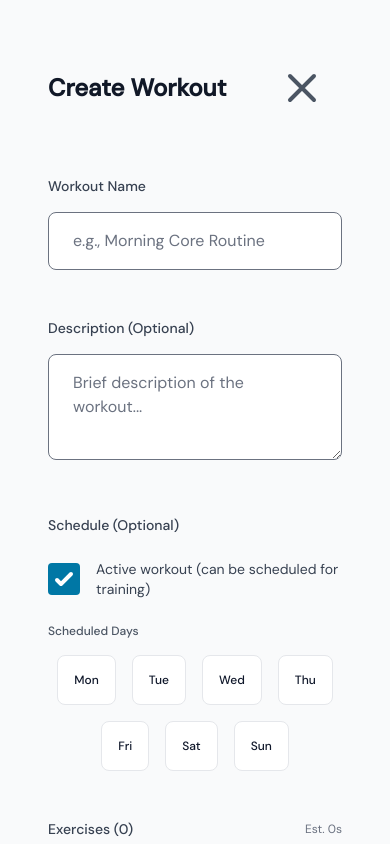
Test case: CreateWorkoutPage - Exercise Type Display Fix › should show only duration field for time-based exercises (Plank)
Fill workout name to enable adding exercises
Type "Test Workout" into the field labelled "Workout Name" at (195, 241), box [48,212,342,270]
(page scrolled)
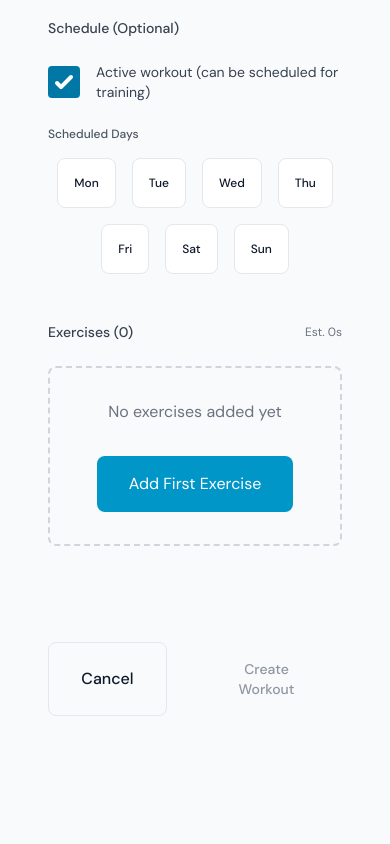
Open exercise picker
Click the button "Add First Exercise" at (195, 484), box [97,456,293,512]
(page scrolled)
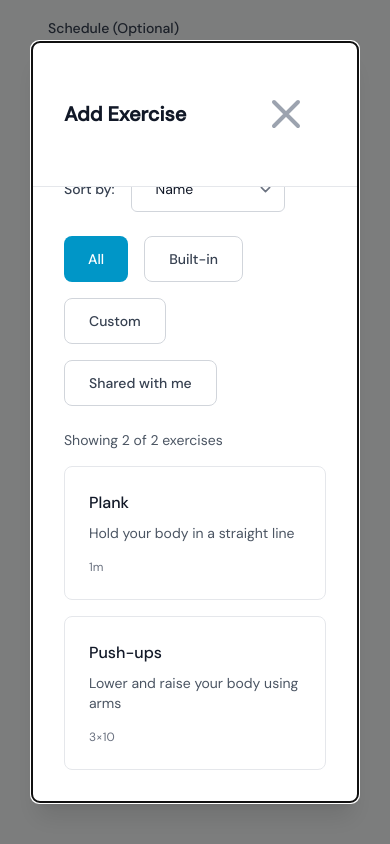
Check: the heading "Plank" is shown, box [89,492,129,513]
Click the button "Plank" at (195, 533), box [64,466,326,600]
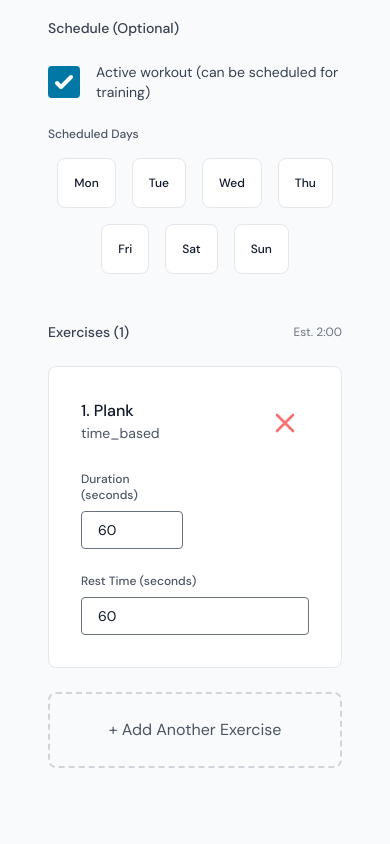
Check: the heading "1. Plank" is shown, box [81,400,134,421]
Check: the number field labelled "Duration (seconds)" is shown, box [81,511,183,549]
Check: the number field labelled "Rest Time (seconds)" is shown, box [81,597,309,635]
